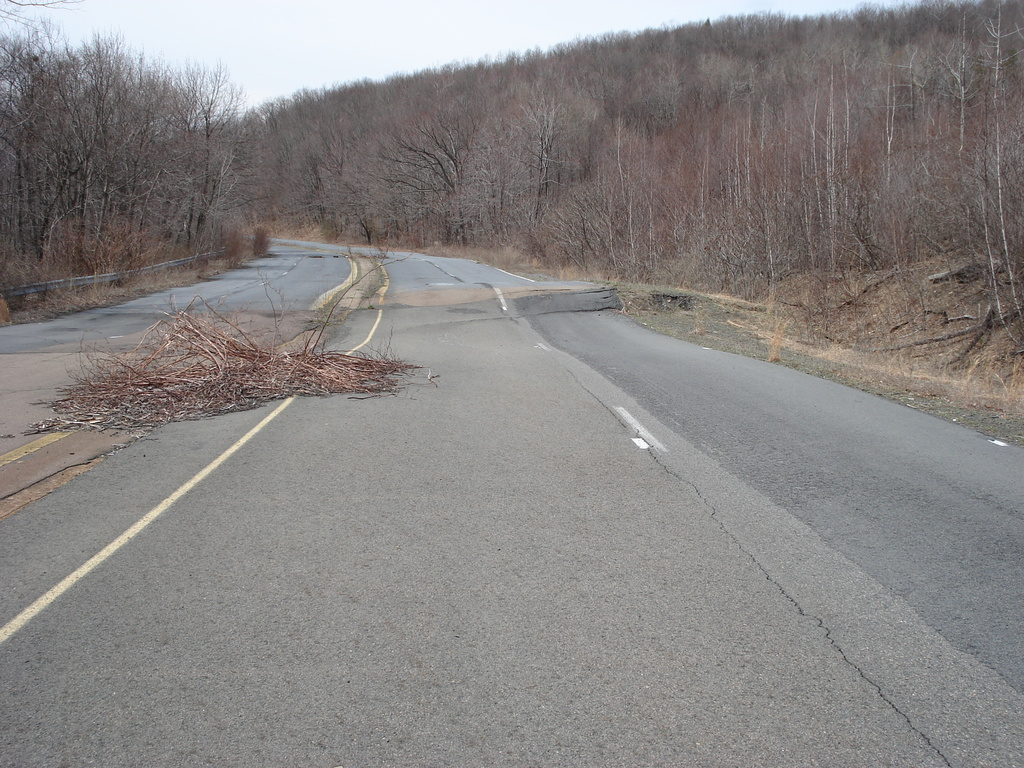Tree: (1, 0, 1023, 370)
